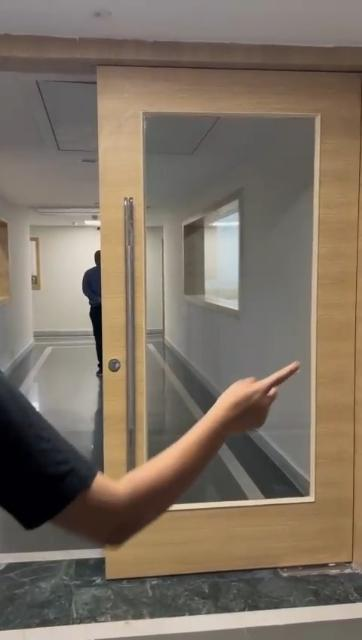door: (96, 69, 362, 572)
floor: (0, 568, 362, 640)
moving-obj: (0, 381, 304, 554)
